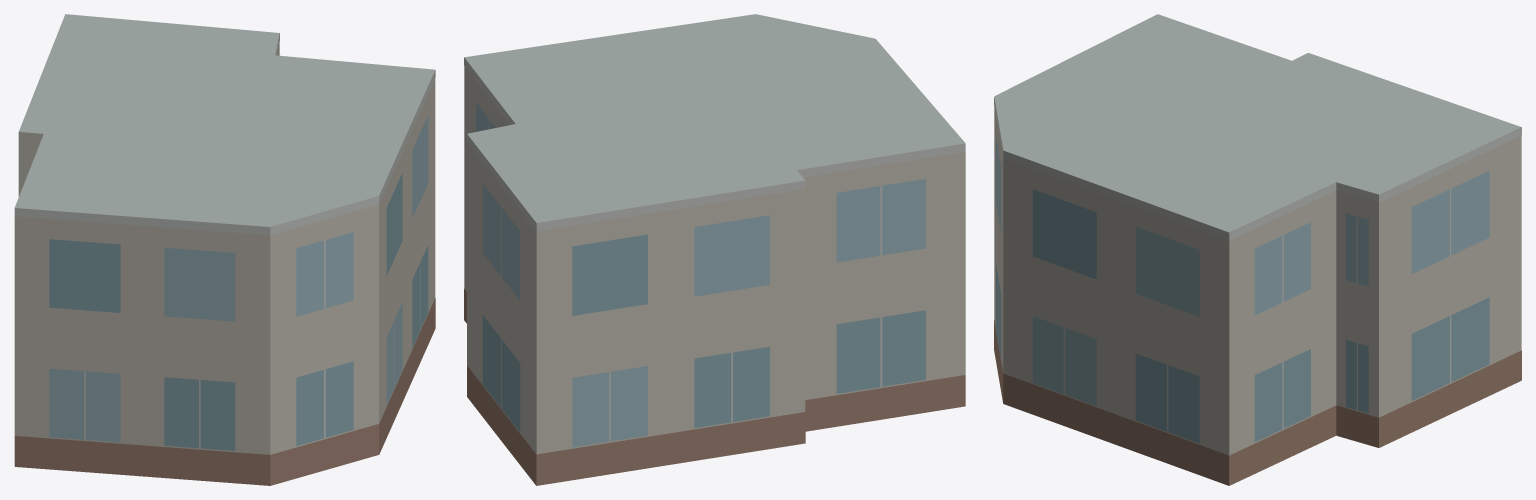
Rendered from survey-upis-32626556.glb.
The picture shows the model from 3 angles, left to right: view 1: azimuth 30°, elevation 25°; view 2: azimuth 150°, elevation 25°; view 3: azimuth 270°, elevation 25°; orthographic projection. The views are drawn at different scales.
Visible parts, largest first — view 1: survey-upis-32626556.tmp; view 2: survey-upis-32626556.tmp; view 3: survey-upis-32626556.tmp.
Boxes of the visible parts, x1=… form: survey-upis-32626556.tmp: x1=14, y1=14, x2=435, y2=485; survey-upis-32626556.tmp: x1=464, y1=14, x2=965, y2=485; survey-upis-32626556.tmp: x1=994, y1=14, x2=1521, y2=485.
Size of the model in its own units: 14.06 by 7.6 by 14.35.
